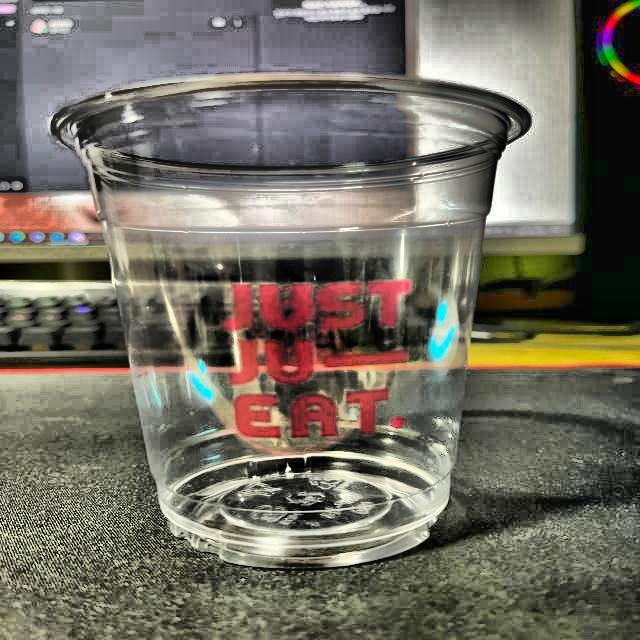plastic cup: (51, 70, 536, 574)
